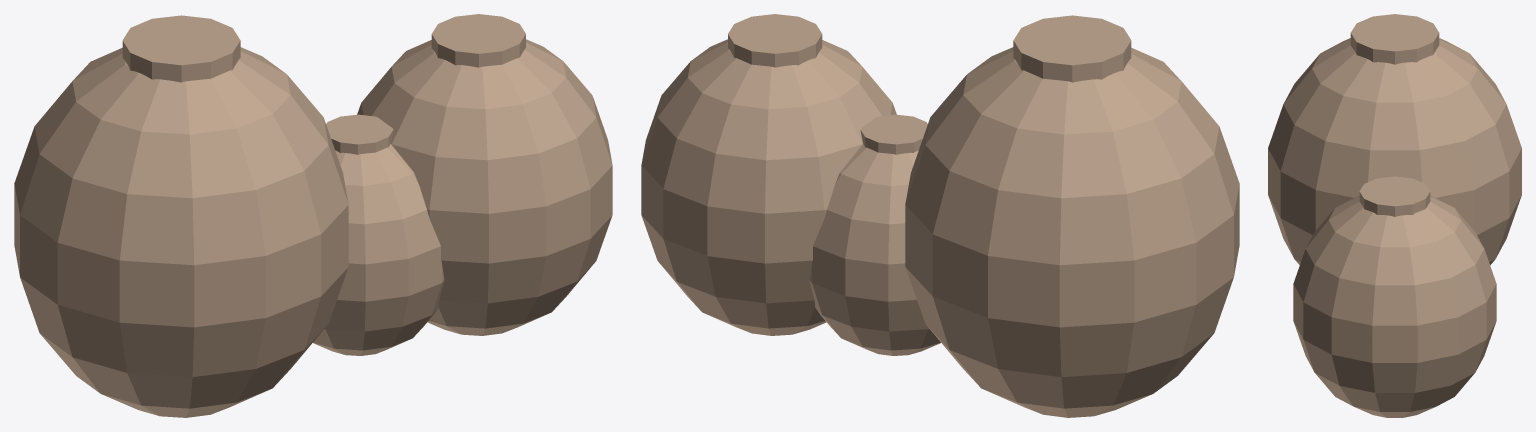
Rendered from pots.glb.
3 renders of one model, left to right at view 1: azimuth 30°, elevation 25°; view 2: azimuth 150°, elevation 25°; view 3: azimuth 270°, elevation 25°, orthographic. The views are drawn at different scales.
Parts seen in each view (by area): view 1: jar-0.34, jar0.3, jar0.04; view 2: jar-0.34, jar0.3, jar0.04; view 3: jar-0.34, jar0.3.
Part boxes in pixels (left/top/right/bottom): jar-0.34: left=14, top=15, right=348, bottom=417; jar0.3: left=357, top=14, right=612, bottom=335; jar0.04: left=313, top=114, right=444, bottom=355; jar-0.34: left=905, top=15, right=1239, bottom=417; jar0.3: left=641, top=14, right=896, bottom=335; jar0.04: left=809, top=114, right=940, bottom=355; jar-0.34: left=1268, top=14, right=1521, bottom=265; jar0.3: left=1293, top=176, right=1496, bottom=417.
Size of the model in its own units: 1.19 by 0.748 by 0.6303.
